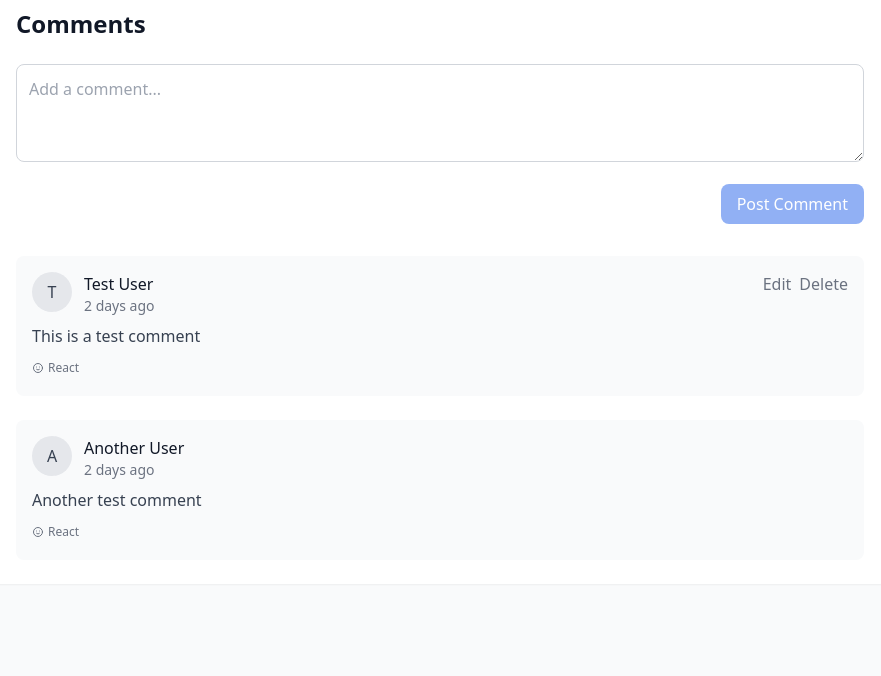
Scenario: Comments Component › allows canceling comment editing
The width and height of the screenshot is (881, 676).
# Click edit
Click the button "Edit" at x=777, y=284, box [763,272,791,296]
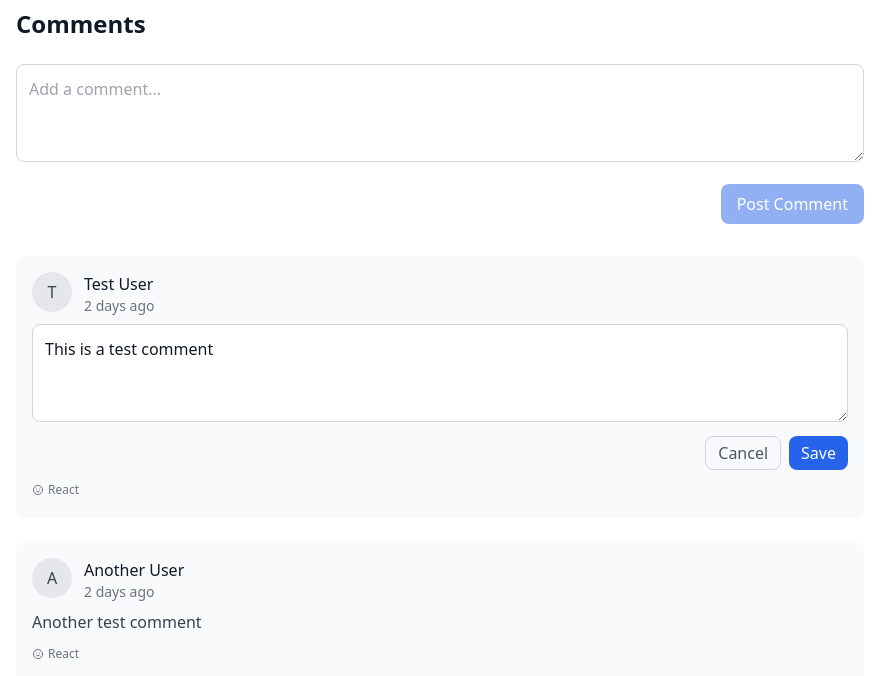
Check: the text box showing "This is a test comment" is shown, box [32,324,848,422]
# Click cancel
Click the button "Cancel" at x=743, y=453, box [705,436,781,470]
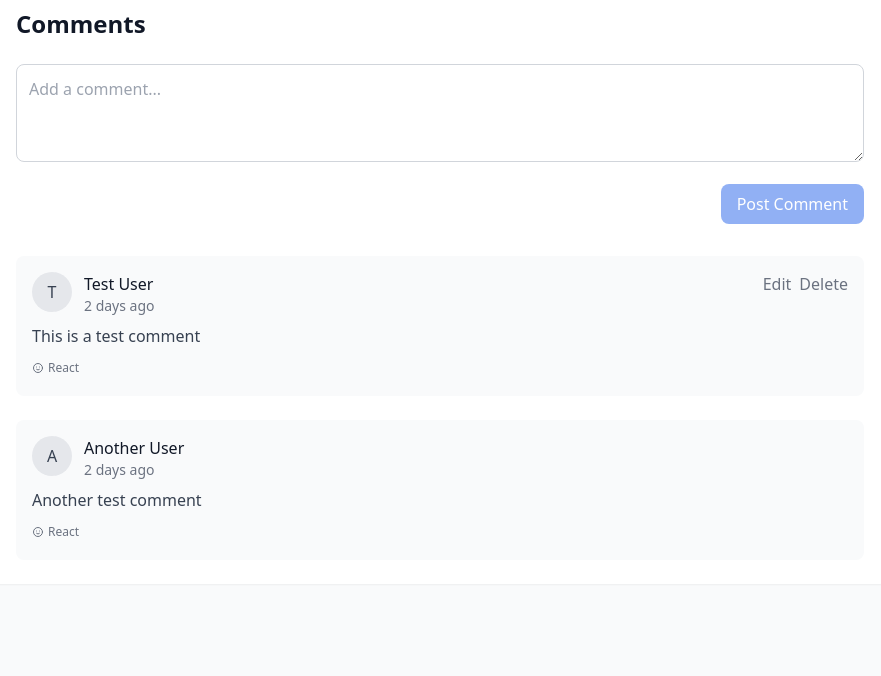
Check: the text "This is a test comment" is shown, box [32,325,200,347]
